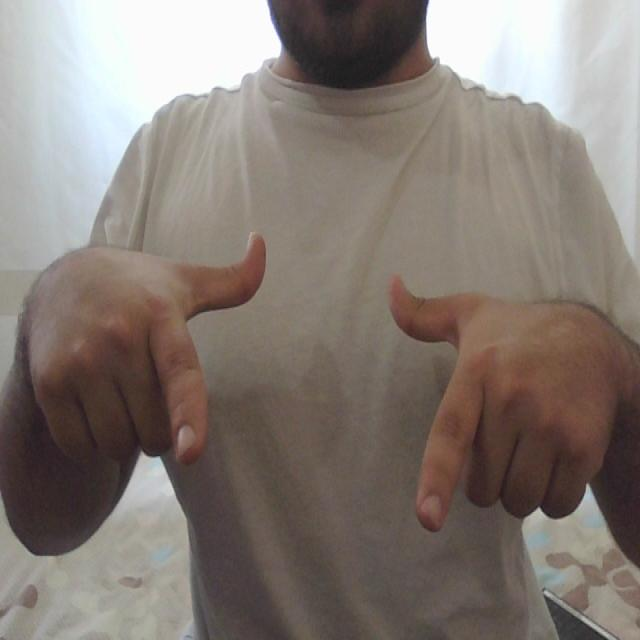Nerede: (152, 224, 490, 536)
